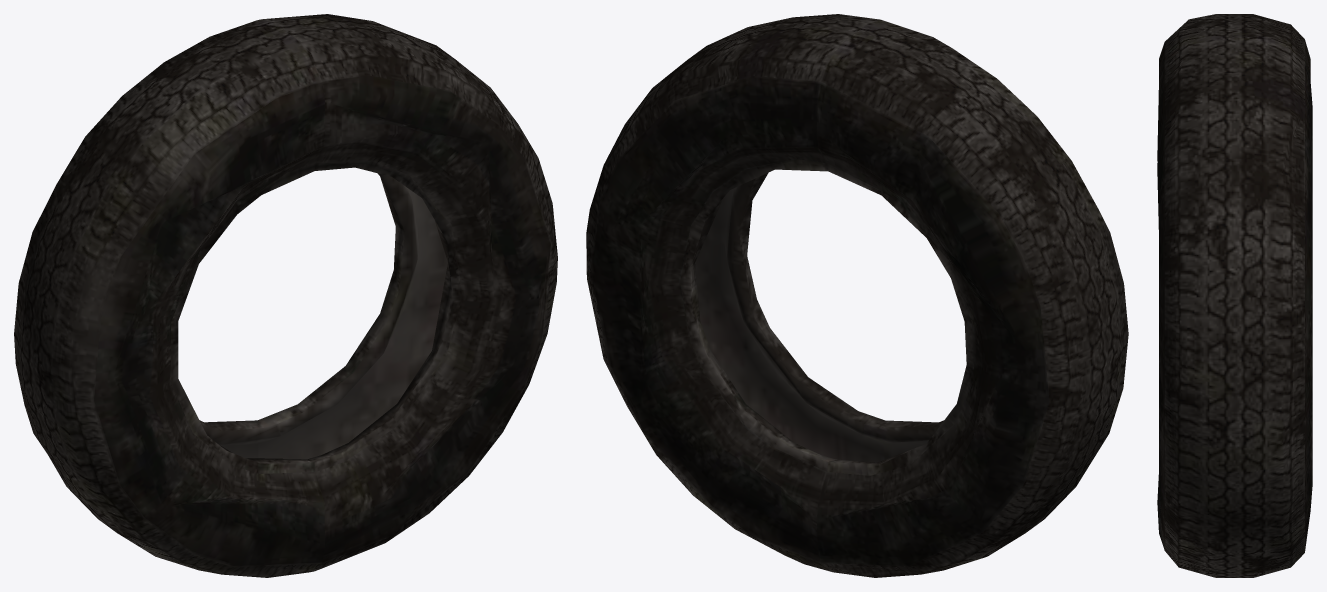
File: old_tyre.glb
3 renders of one model, left to right at view 1: azimuth 30°, elevation 25°; view 2: azimuth 150°, elevation 25°; view 3: azimuth 270°, elevation 25°, orthographic. The views are drawn at different scales.
Parts seen in each view (by area): view 1: old_tyre; view 2: old_tyre; view 3: old_tyre.
Boxes of the visible parts, <box> form: old_tyre: <box>14,14,557,577</box>; old_tyre: <box>586,14,1128,577</box>; old_tyre: <box>1157,14,1312,577</box>.
Size of the model in its own units: 0.6 by 0.6 by 0.165.
Materials: 1 (1 with a texture image).
